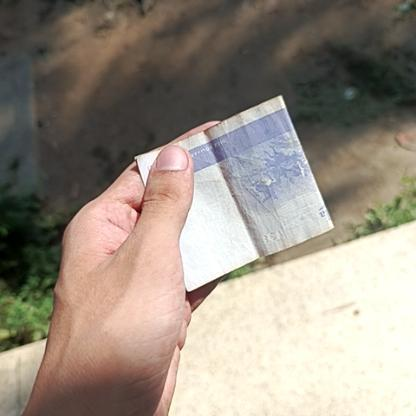ten-back-vef: (137, 92, 335, 294)
